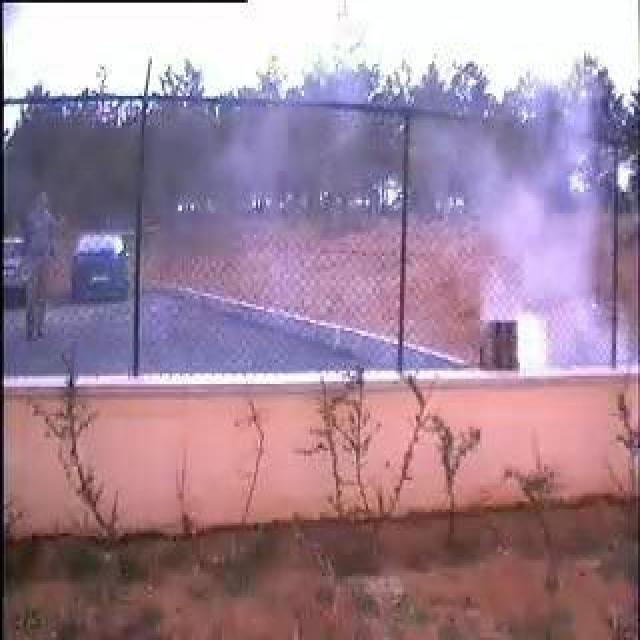Smoke: (331, 107, 621, 368)
